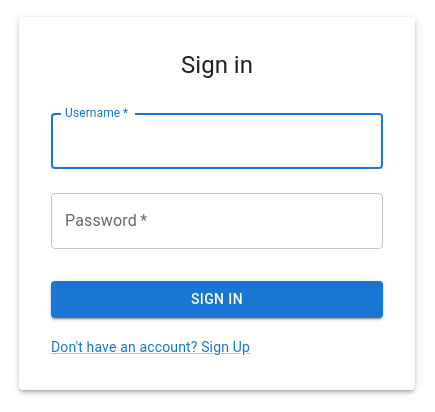
Test: AuthPage › should switch between login and register forms
Expected: the heading "Sign in" is shown, [181, 49, 253, 81]
// Switch to Register
Click the link "Don't have an account? Sign Up": (150, 346) [51, 338, 250, 354]
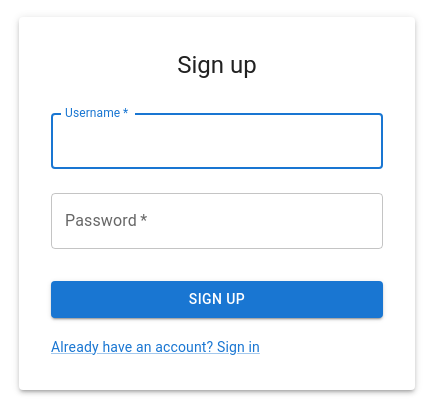
Expected: the heading "Sign up" is shown, [177, 49, 257, 81]
// Switch back to Login
Click the link "Already have an account? Sign in": (155, 346) [51, 338, 260, 354]
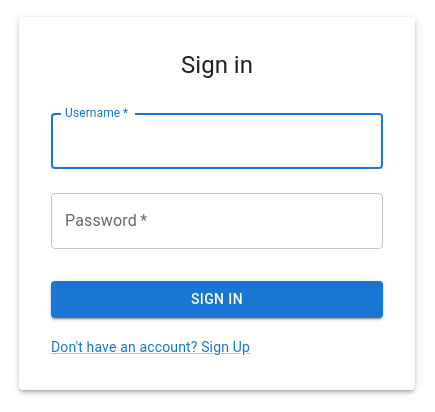
Expected: the heading "Sign in" is shown, [181, 49, 253, 81]
